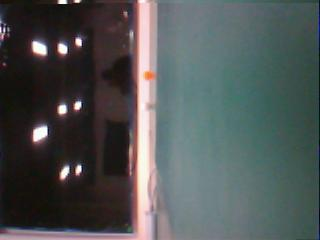oball: (143, 70, 152, 81)
